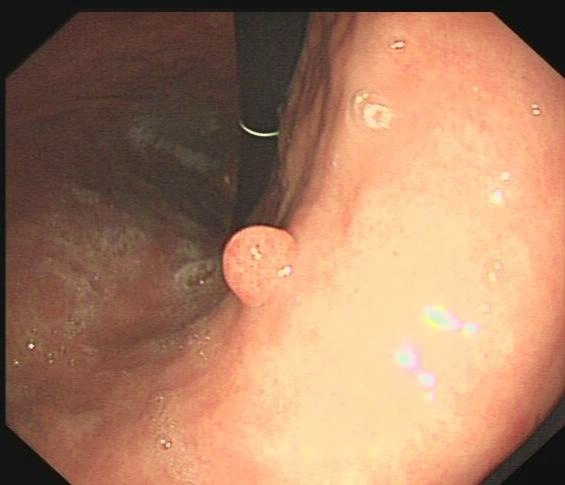Polyp: (212, 225, 303, 318)
